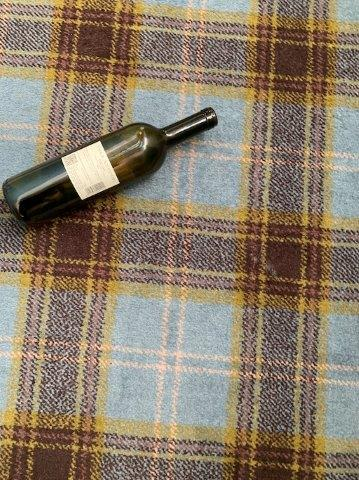botolkaca: (2, 105, 218, 224)
